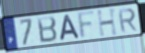7: (19, 17, 34, 47)
A: (59, 13, 81, 42)
B: (36, 15, 59, 44)
F: (76, 9, 97, 41)
H: (96, 7, 119, 39)
R: (117, 7, 139, 34)
